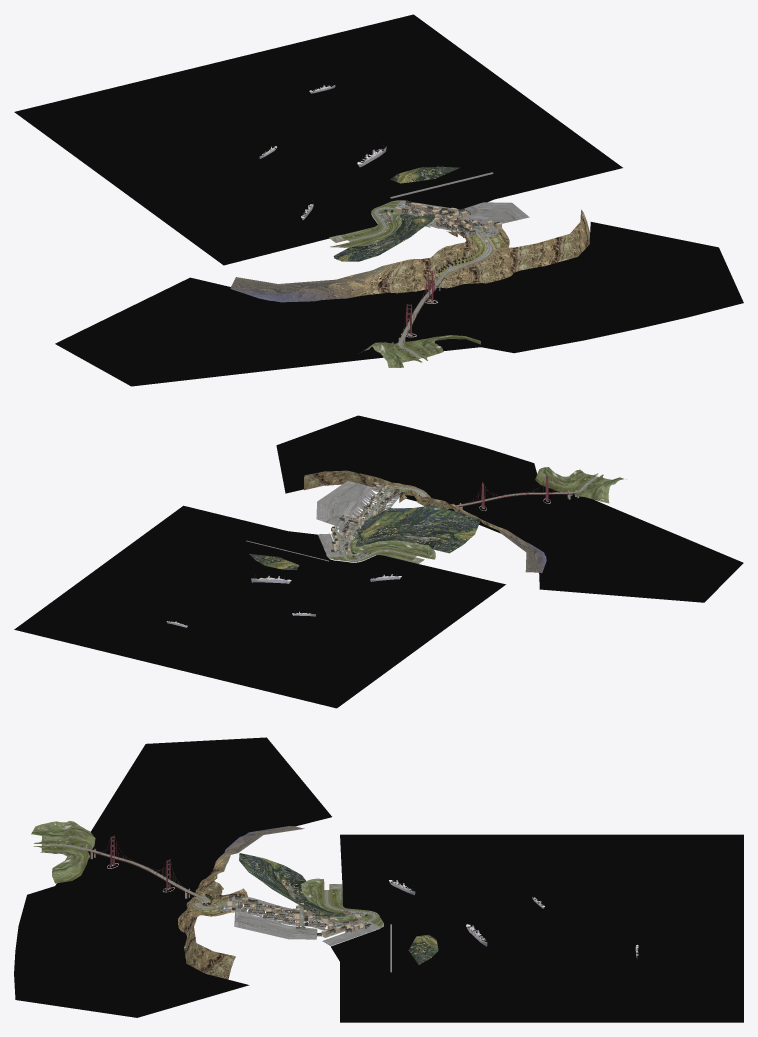
The model's file is stage-sanf.glb.
The picture shows the model from 3 angles, top to bottom: view 1: azimuth 30°, elevation 25°; view 2: azimuth 150°, elevation 25°; view 3: azimuth 270°, elevation 25°; orthographic projection. The views are drawn at different scales.
Parts seen in each view (by area): view 1: part 7 chunk 5,-17, part 7 chunk 1,-5, part 1 chunk 3,-6, part 1 chunk -1,-8, part 1 chunk 7,-6, part 1 chunk 3,-9, part 1 chunk 7,-8, part 1 chunk 7,-13, part 1 chunk 4,-11, part 1 chunk 1,-1; view 2: part 7 chunk 5,-17, part 7 chunk 1,-5, part 1 chunk 3,-9, part 1 chunk 7,-8, part 1 chunk 7,-6, part 1 chunk 3,-10, part 1 chunk 1,-1, part 1 chunk -1,-8, part 1 chunk 3,-6, part 1 chunk 4,-11; view 3: part 7 chunk 5,-17, part 7 chunk 1,-5, part 1 chunk 3,-9, part 1 chunk 7,-6, part 1 chunk 7,-8, part 1 chunk 3,-6, part 1 chunk -1,-1, part 1 chunk -1,-8, part 1 chunk 1,-1, part 1 chunk 3,-10, part 1 chunk 4,-11, part 1 chunk 7,-13.
Part boxes in pixels (<box>): part 7 chunk 5,-17: <box>14,14,622,265</box>; part 7 chunk 1,-5: <box>55,222,743,386</box>; part 1 chunk 3,-6: <box>375,240,517,293</box>; part 1 chunk -1,-8: <box>230,266,381,302</box>; part 1 chunk 7,-6: <box>446,209,589,271</box>; part 1 chunk 3,-9: <box>333,214,435,261</box>; part 1 chunk 7,-8: <box>456,202,529,223</box>; part 1 chunk 7,-13: <box>390,166,459,183</box>; part 1 chunk 4,-11: <box>329,201,409,242</box>; part 1 chunk 1,-1: <box>403,335,466,357</box>; part 7 chunk 5,-17: <box>14,505,505,708</box>; part 7 chunk 1,-5: <box>276,415,743,602</box>; part 1 chunk 3,-9: <box>355,505,480,553</box>; part 1 chunk 7,-8: <box>316,480,372,526</box>; part 1 chunk 7,-6: <box>304,470,407,502</box>; part 1 chunk 3,-10: <box>348,538,435,559</box>; part 1 chunk 1,-1: <box>535,469,593,495</box>; part 1 chunk -1,-8: <box>475,516,546,573</box>; part 1 chunk 3,-6: <box>397,483,491,527</box>; part 1 chunk 4,-11: <box>329,548,418,563</box>; part 7 chunk 5,-17: <box>331,834,743,1022</box>; part 7 chunk 1,-5: <box>14,737,331,1017</box>; part 1 chunk 3,-9: <box>239,853,345,919</box>; part 1 chunk 7,-6: <box>184,888,247,979</box>; part 1 chunk 7,-8: <box>234,911,317,939</box>; part 1 chunk 3,-6: <box>178,869,223,934</box>; part 1 chunk -1,-1: <box>31,821,95,849</box>; part 1 chunk -1,-8: <box>213,826,304,869</box>; part 1 chunk 1,-1: <box>40,847,89,880</box>; part 1 chunk 3,-10: <box>301,878,370,922</box>; part 1 chunk 4,-11: <box>322,890,383,926</box>; part 1 chunk 7,-13: <box>408,934,438,964</box>.
Size of the model in its own units: 6679 by 353 by 7228.
143 materials, 139 textured.
